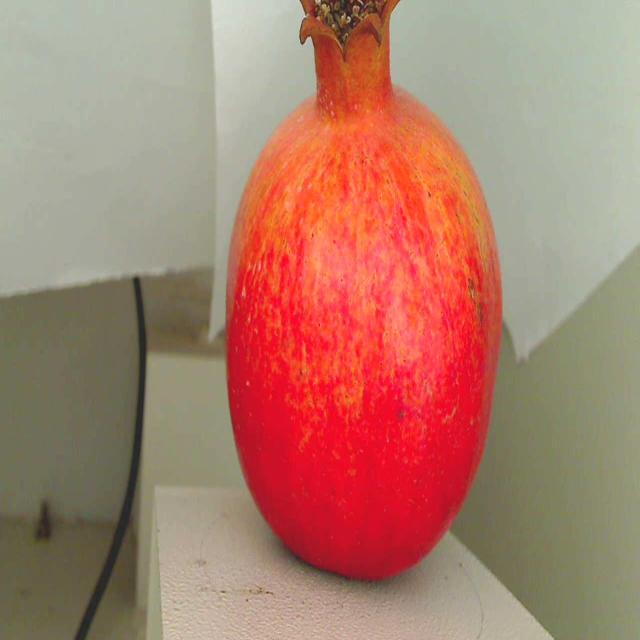pomegranate: (207, 0, 511, 582)
